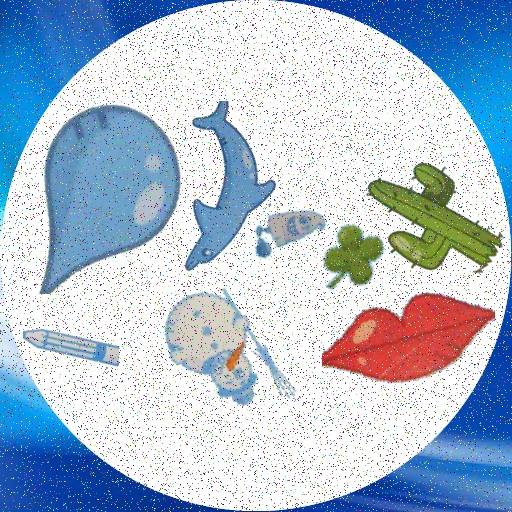cactus_icon: (356, 147, 511, 302)
cloverleaf_icon: (309, 217, 385, 293)
dolphin_icon: (134, 101, 308, 275)
ghost_icon: (249, 191, 329, 271)
lips_icon: (322, 262, 495, 435)
pen_icon: (23, 297, 119, 393)
raindrop_icon: (1, 98, 197, 294)
snowman_icon: (161, 277, 307, 423)
